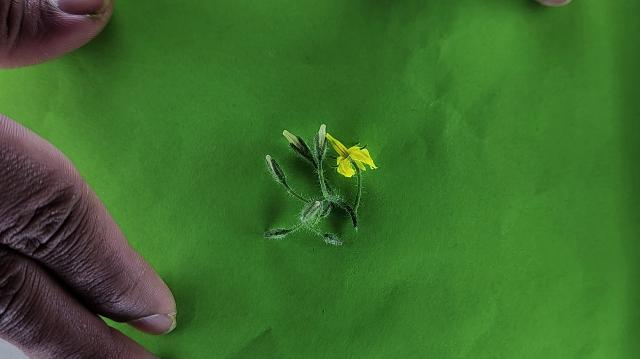Anthesis: (324, 132, 377, 178)
Flower Bud: (283, 130, 317, 168), (312, 123, 329, 191), (301, 200, 321, 224), (266, 155, 282, 182), (263, 228, 292, 239), (289, 138, 307, 154), (319, 199, 334, 218), (324, 234, 343, 247), (317, 123, 326, 149), (266, 155, 275, 168)
